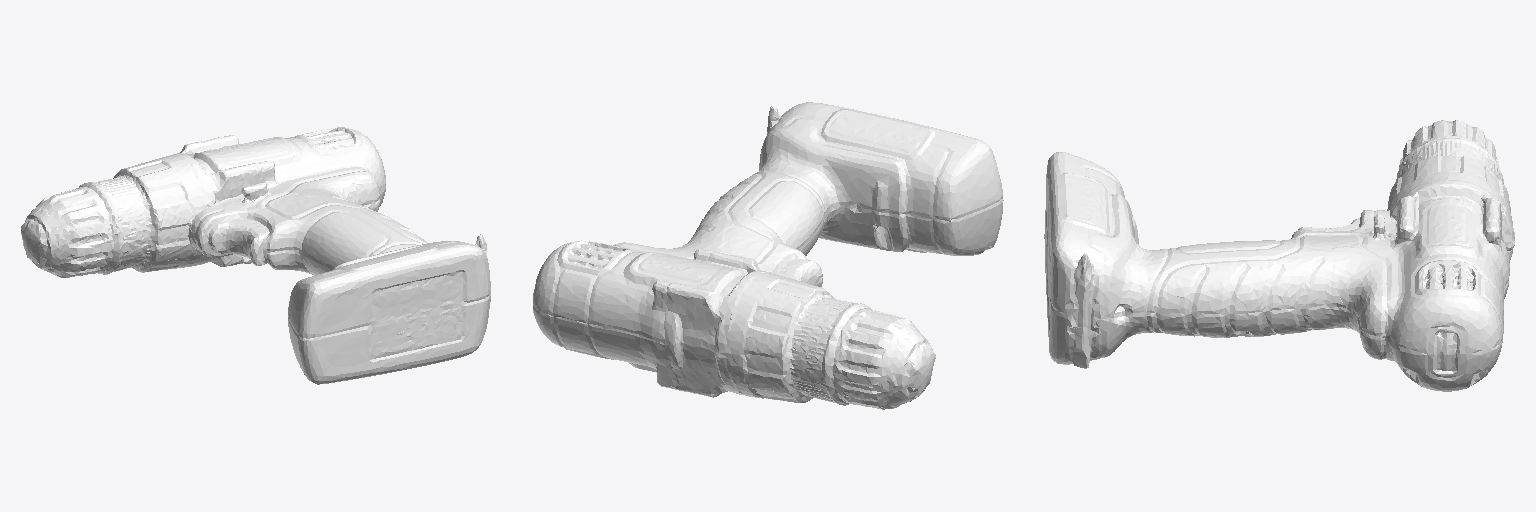
The robot description file, URDF, robot "035_power_drill":
<?xml version="1.0"?>
<robot name="035_power_drill">
	<link name="_name">
		<visual>
			<origin rpy="0 0 0" xyz="0 0 0" />
			<geometry>
				<mesh filename="035_power_drill/google_16k/textured.obj" scale="1 1 1" />
			</geometry>
			<material name="texture">
				<color rgba="1.0 1.0 1.0 1.0" />
			</material>
		</visual>
		<collision>
			<origin rpy="0 0 0" xyz="0 0 0" />
			<geometry>
				<mesh filename="035_power_drill/google_16k/textured_vhacd.obj" scale="1 1 1" />
			</geometry>
		</collision>
		<inertial>
			<origin rpy="0 0 0" xyz="0 0 0" />
			<mass value="0.895" />
			<inertia ixx="1.0" ixy="0.0" ixz="0.0" iyy="1.0" iyz="0.0" izz="1.0" />
		</inertial>
	</link>
</robot>

--- Render facts (derived) ---
3 views of the same robot in one strip: view 1: azimuth 30°, elevation 25°; view 2: azimuth 150°, elevation 25°; view 3: azimuth 270°, elevation 25° (orthographic).
Robot: 035_power_drill — 1 links, 0 joints (none); root link _name; default pose: every joint at zero.
Visible links, largest first — view 1: _name; view 2: _name; view 3: _name.
Boxes of the visible links, x1,y1,x2,y2 form: _name: [21, 127, 490, 384]; _name: [533, 102, 1003, 409]; _name: [1044, 120, 1514, 391].
Bounding box of the posed robot: 0.1842 × 0.1875 × 0.0573 m (x, y, z).
1 mesh visuals loaded from 1 distinct referenced files (1 OBJ).
